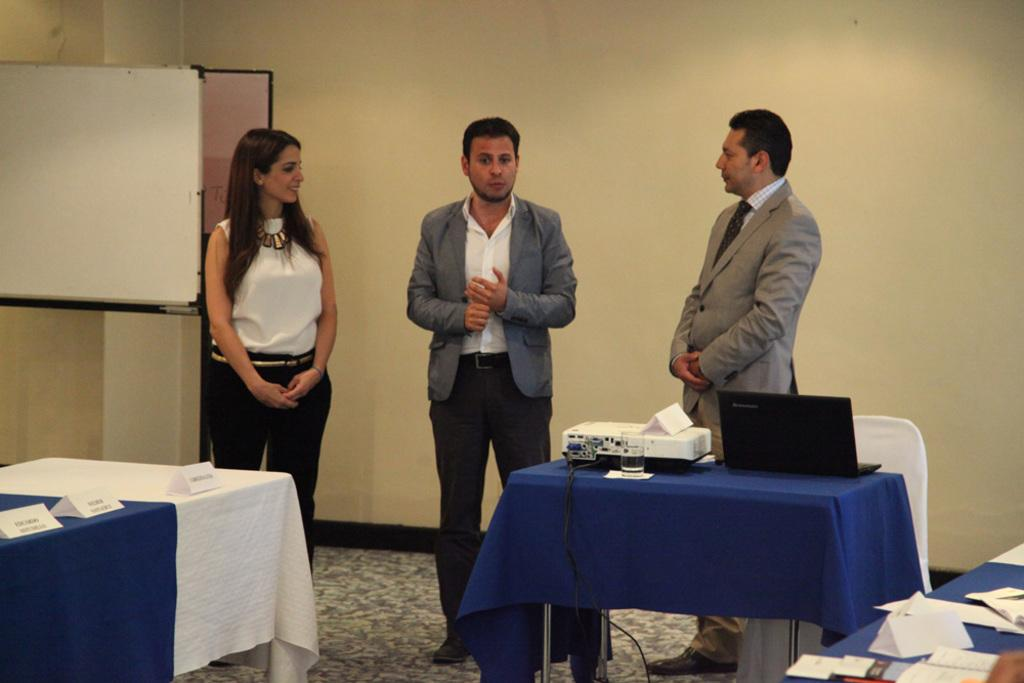Laptop: (716, 389, 882, 478)
